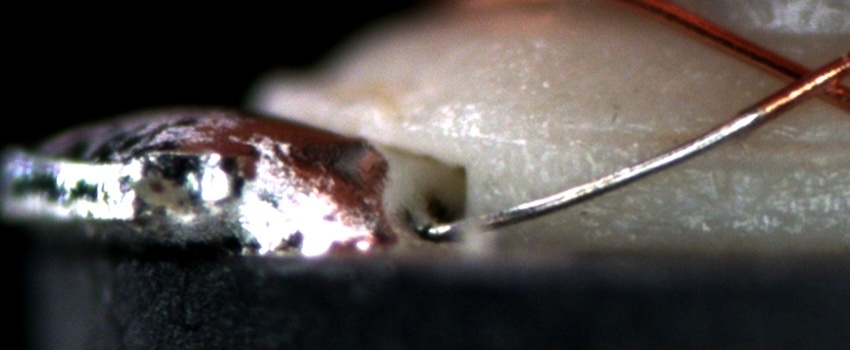CL: (763, 47, 846, 109)
DL: (556, 122, 850, 173)
TS: (423, 110, 762, 239)
